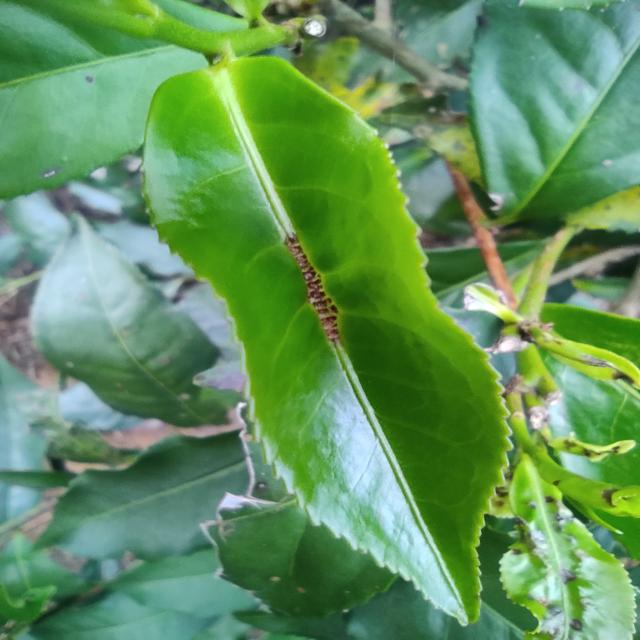Category C(4-7 days): (114, 37, 557, 628)
